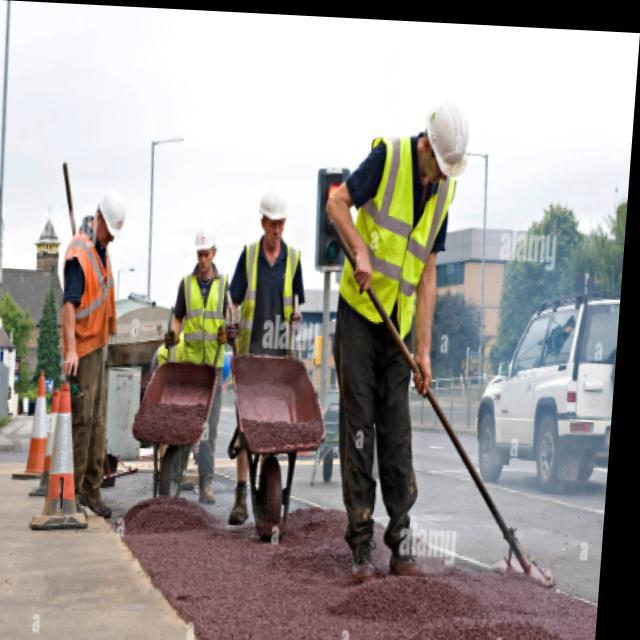boots: (344, 534, 431, 585), (227, 476, 281, 527), (65, 476, 120, 525), (161, 468, 221, 503)
helmet: (423, 101, 475, 182), (253, 184, 295, 253), (91, 187, 128, 252), (189, 222, 220, 273)
vest: (333, 130, 470, 346), (55, 227, 127, 361), (232, 234, 303, 362), (173, 266, 232, 372)
